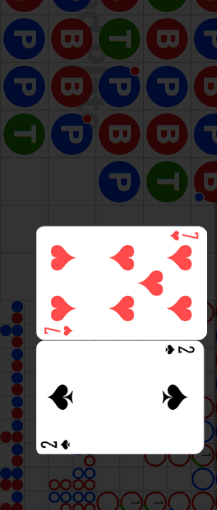2S: (40, 437, 74, 450)
7H: (44, 323, 75, 336)
